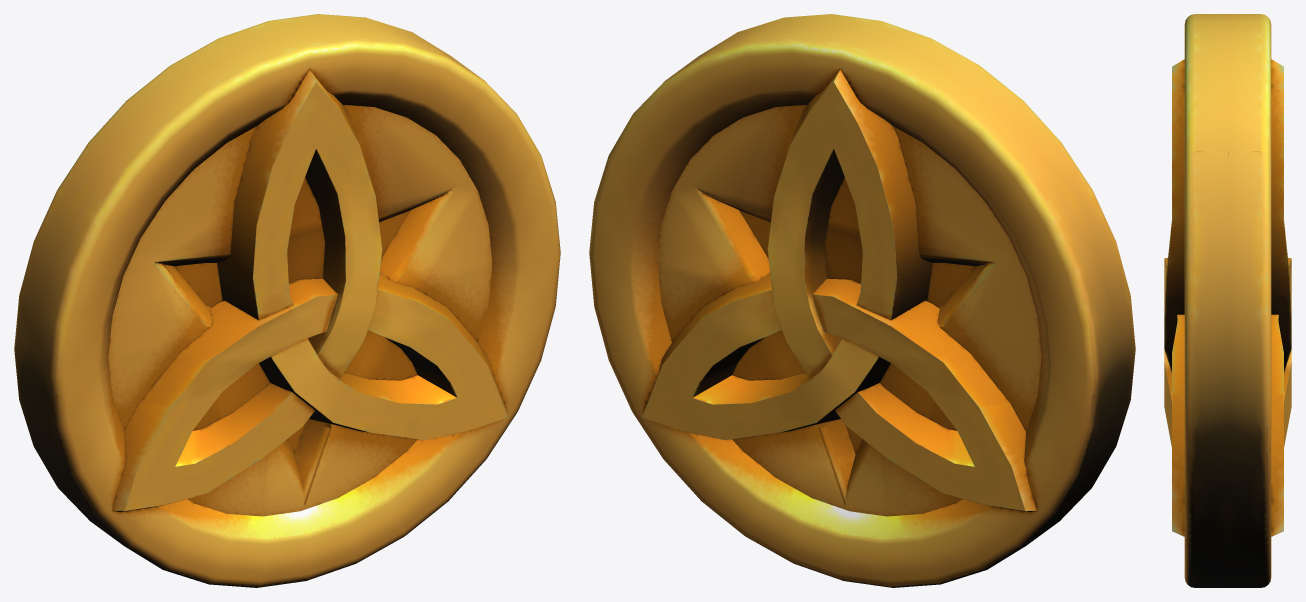
File: mora.glb
The picture shows the model from 3 angles, left to right: view 1: azimuth 30°, elevation 25°; view 2: azimuth 150°, elevation 25°; view 3: azimuth 270°, elevation 25°; orthographic projection. The views are drawn at different scales.
Parts seen in each view (by area): view 1: Coin_low.023; view 2: Coin_low.023; view 3: Coin_low.023.
Boxes of the visible parts, left/top/right/bottom form: Coin_low.023: left=14, top=14, right=560, bottom=587; Coin_low.023: left=589, top=14, right=1135, bottom=587; Coin_low.023: left=1164, top=14, right=1291, bottom=587.
Size of the model in its own units: 505 by 505 by 112.
Materials: 1 (1 with a texture image).
